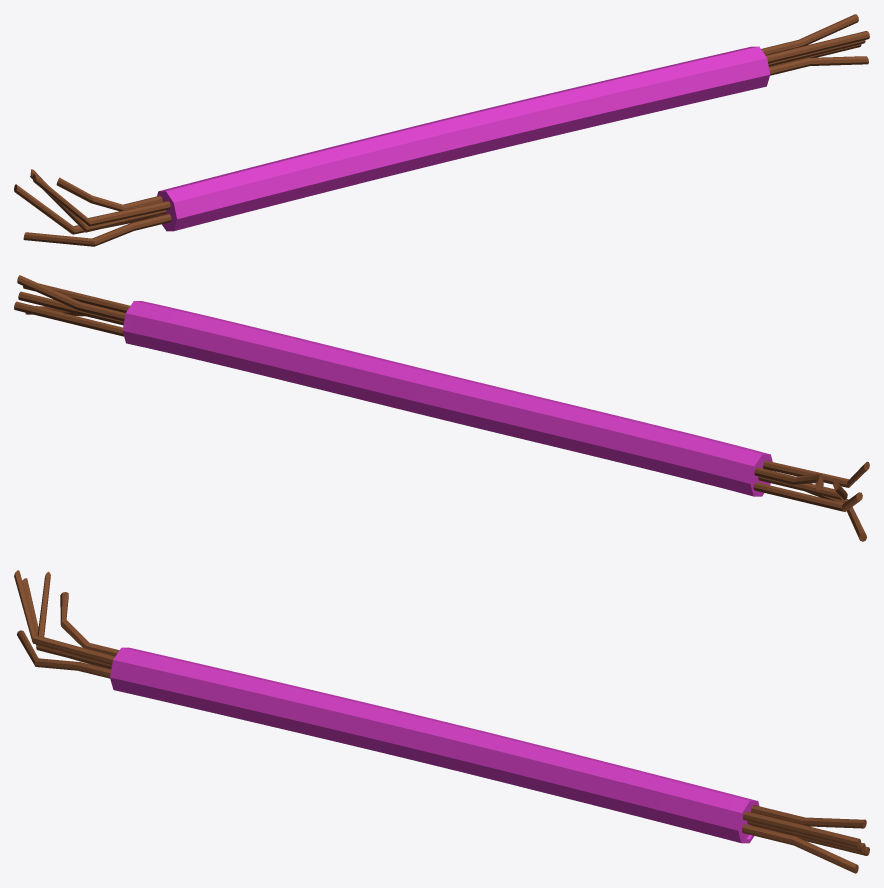
The model's file is samcable3.fbx.
3 renders of one model, top to bottom at view 1: azimuth 30°, elevation 25°; view 2: azimuth 150°, elevation 25°; view 3: azimuth 330°, elevation 25°, orthographic. The views are drawn at different scales.
Visible parts, largest first — view 1: PinkCable; view 2: PinkCable; view 3: PinkCable.
Part boxes in pixels (x1,y1,x2,y2): PinkCable: (14, 14, 869, 246); PinkCable: (14, 275, 869, 541); PinkCable: (14, 570, 869, 873).
Size of the model in its own units: 22.46 by 1.92 by 2.12.
